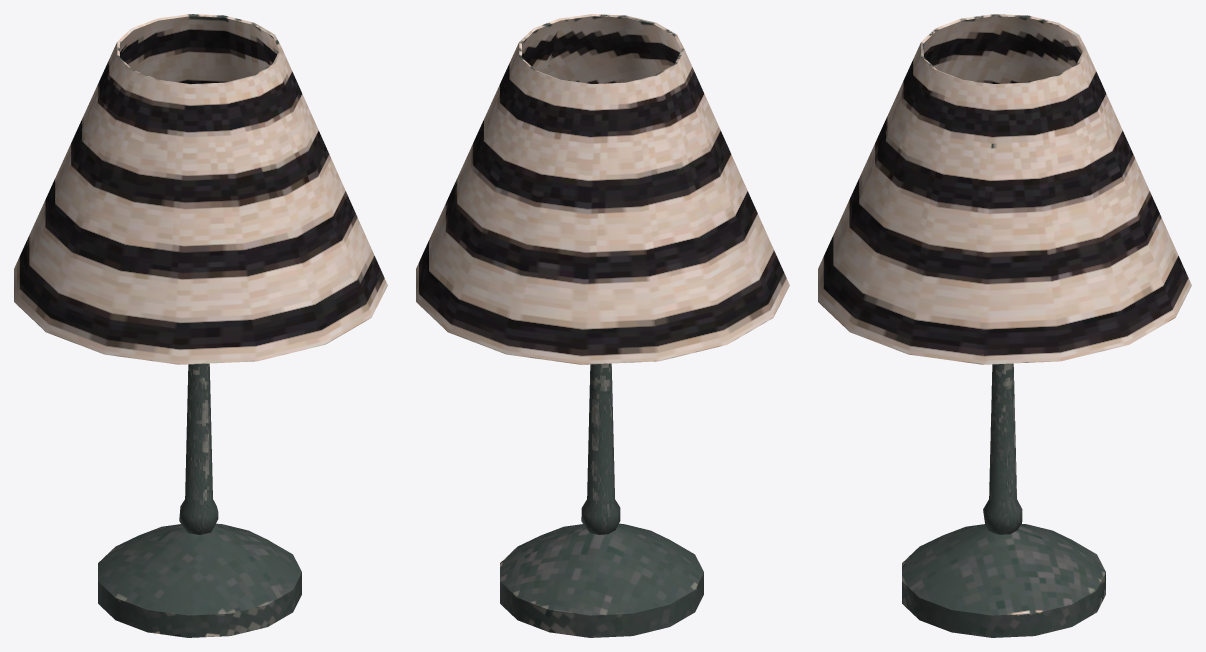
Rendered from NightLamp.fbx.
The picture shows the model from 3 angles, left to right: view 1: azimuth 30°, elevation 25°; view 2: azimuth 150°, elevation 25°; view 3: azimuth 270°, elevation 25°; orthographic projection.
Parts seen in each view (by area): view 1: NightLamp; view 2: NightLamp; view 3: NightLamp.
Boxes of the visible parts, x1,y1,x2,y2 form: NightLamp: [14, 14, 387, 637]; NightLamp: [416, 14, 789, 637]; NightLamp: [818, 14, 1191, 637].
Size of the model in its own units: 24.49 by 24.62 by 39.43.
